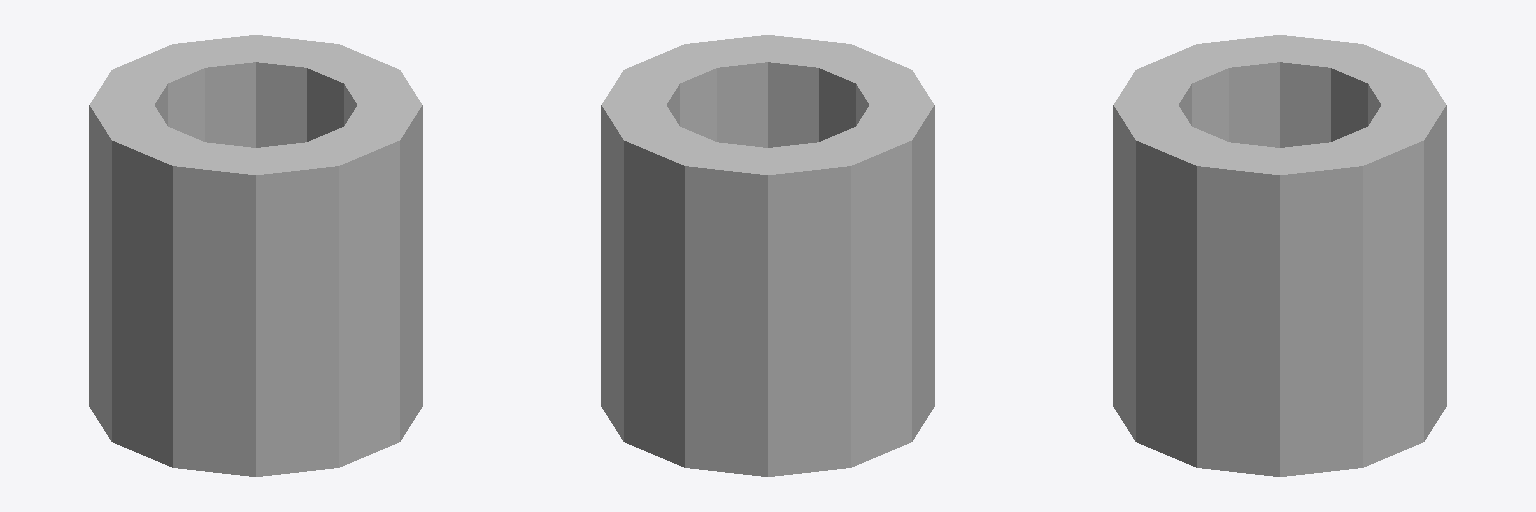
File: well.obj
The picture shows the model from 3 angles: view 1: azimuth 30°, elevation 25°; view 2: azimuth 150°, elevation 25°; view 3: azimuth 270°, elevation 25°; orthographic projection.
Visible parts, largest first — view 1: Cylinder.003; view 2: Cylinder.003; view 3: Cylinder.003.
Part boxes in pixels (left/top/right/bottom): Cylinder.003: left=89, top=35, right=422, bottom=476; Cylinder.003: left=601, top=35, right=934, bottom=476; Cylinder.003: left=1113, top=35, right=1446, bottom=476.
Size of the model in its own units: 1.7 by 1.7 by 1.7.